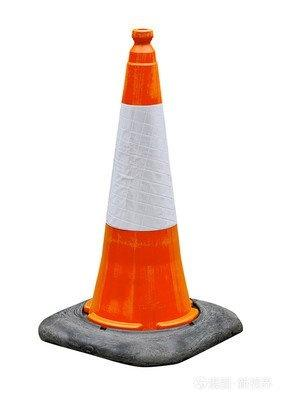cone_barrel: (78, 28, 196, 330)
